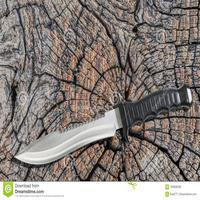knife: (9, 85, 195, 170)
